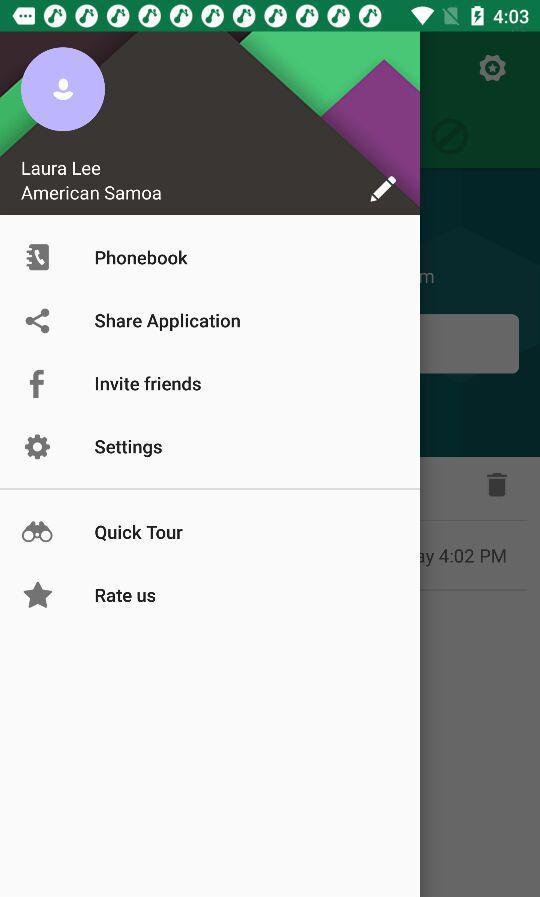Drawer: (1, 33, 421, 897)
Icon: (21, 47, 106, 133), (24, 581, 54, 609), (369, 176, 396, 205), (25, 434, 52, 461), (26, 308, 51, 335), (30, 370, 46, 400)
Image: (22, 520, 54, 544), (26, 244, 51, 272)
Text: (95, 313, 241, 332), (21, 186, 162, 202), (96, 376, 202, 393), (95, 524, 184, 542), (96, 250, 189, 267), (95, 439, 164, 459), (22, 162, 102, 177), (96, 588, 157, 603)
UpperTaskBar: (1, 1, 540, 33)
